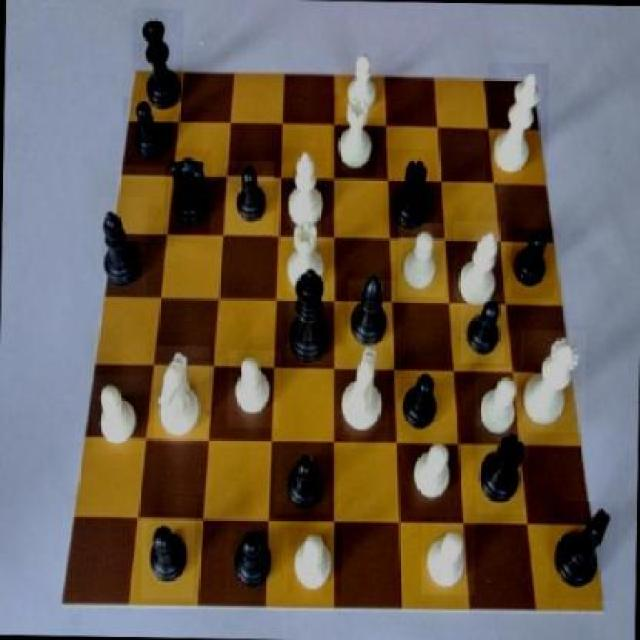bishop: (95, 197, 148, 297), (348, 280, 395, 357)
black-bishop: (286, 268, 336, 364)
black-king: (548, 500, 618, 599), (164, 149, 212, 237)
black-knight: (226, 516, 280, 600), (142, 517, 196, 600), (274, 443, 331, 513), (226, 160, 274, 237), (123, 97, 174, 166), (460, 291, 506, 364), (397, 365, 443, 437), (510, 228, 554, 298)
black-pawn: (131, 8, 184, 117)
black-queen: (476, 424, 528, 514), (383, 148, 435, 238)
black-rook: (452, 222, 506, 308), (282, 146, 326, 231)
white-bishop: (486, 61, 549, 182)
white-king: (152, 346, 208, 444), (334, 345, 389, 440)
white-knight: (90, 374, 148, 453), (228, 349, 280, 428), (422, 523, 476, 596), (474, 366, 524, 444), (399, 223, 446, 299), (288, 528, 340, 595), (406, 437, 457, 505), (338, 48, 382, 119)
white-pawn: (519, 331, 586, 434)
white-queen: (280, 218, 329, 302), (330, 94, 378, 177)
